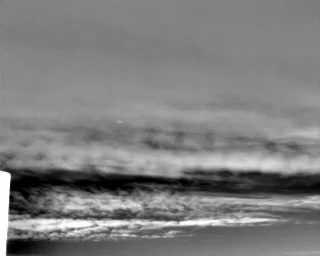BIRD: (115, 117, 124, 126)
